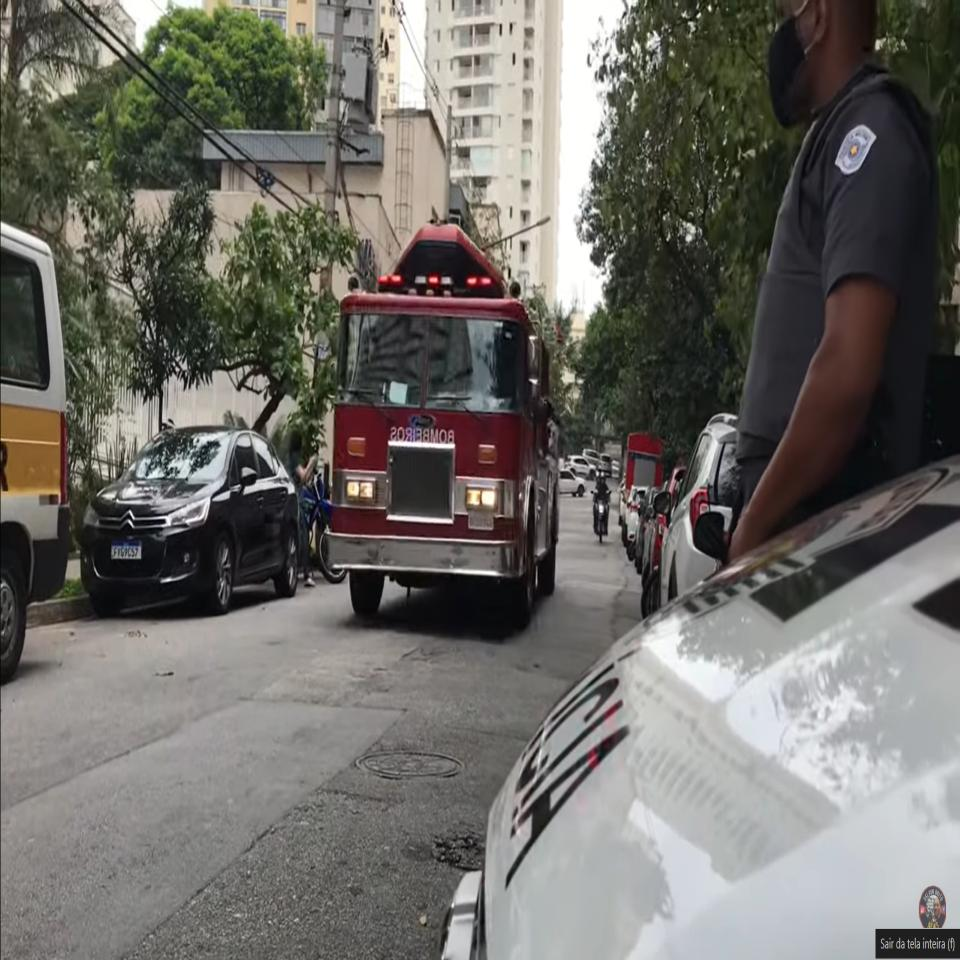viatura: (326, 224, 561, 628)
